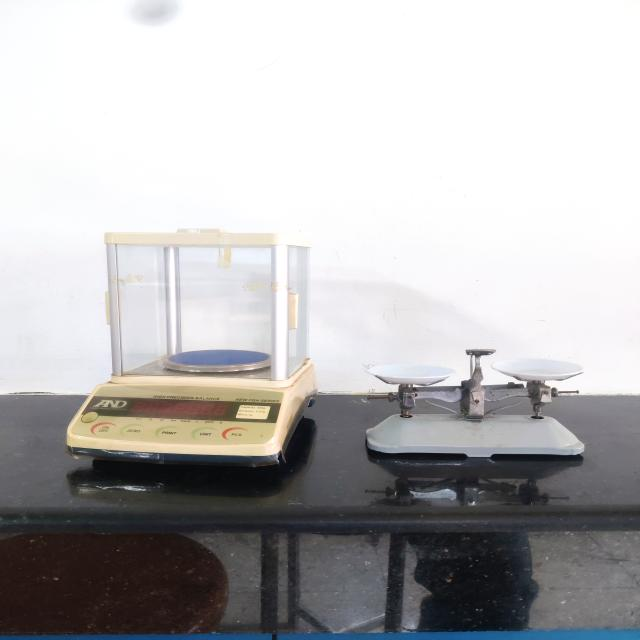Mechanical_Balance_Scale: (356, 333, 604, 485)
Precision_Weight_Scale: (43, 217, 335, 514)
